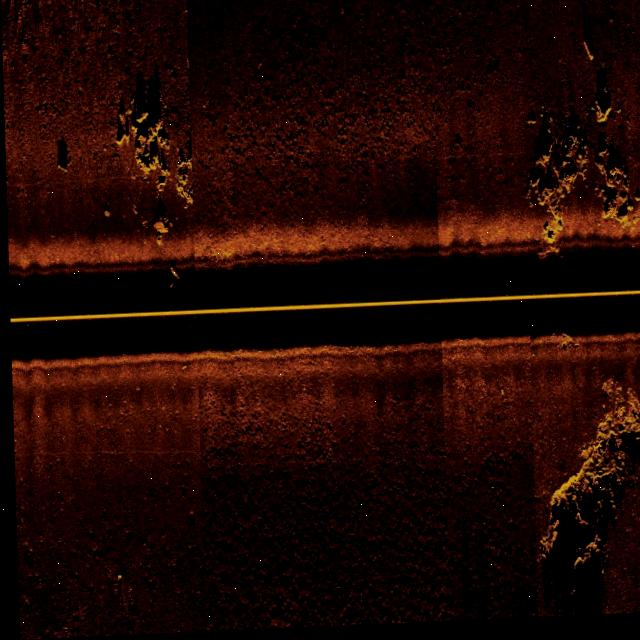mine: (578, 7, 594, 68), (51, 138, 71, 177), (108, 111, 129, 145), (163, 260, 179, 284)
